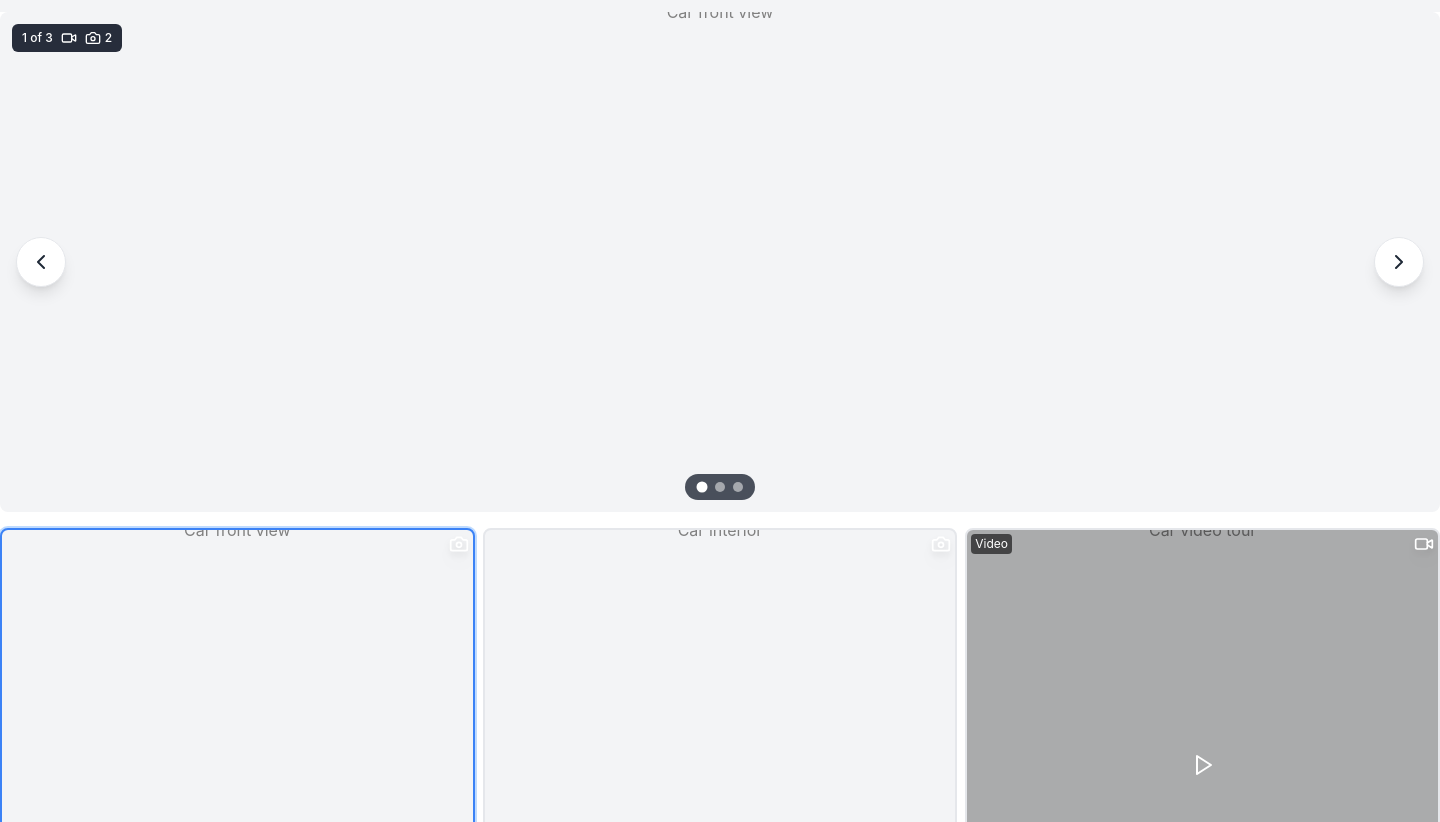
it: CarMediaGallery › navigates between images using navigation arrows
The width and height of the screenshot is (1440, 822).
Expected: the text "1 of 3" is shown, [22,30,53,46]
// Click next arrow
Click the button named "Next media": [1399, 262] box [1374,237,1424,287]
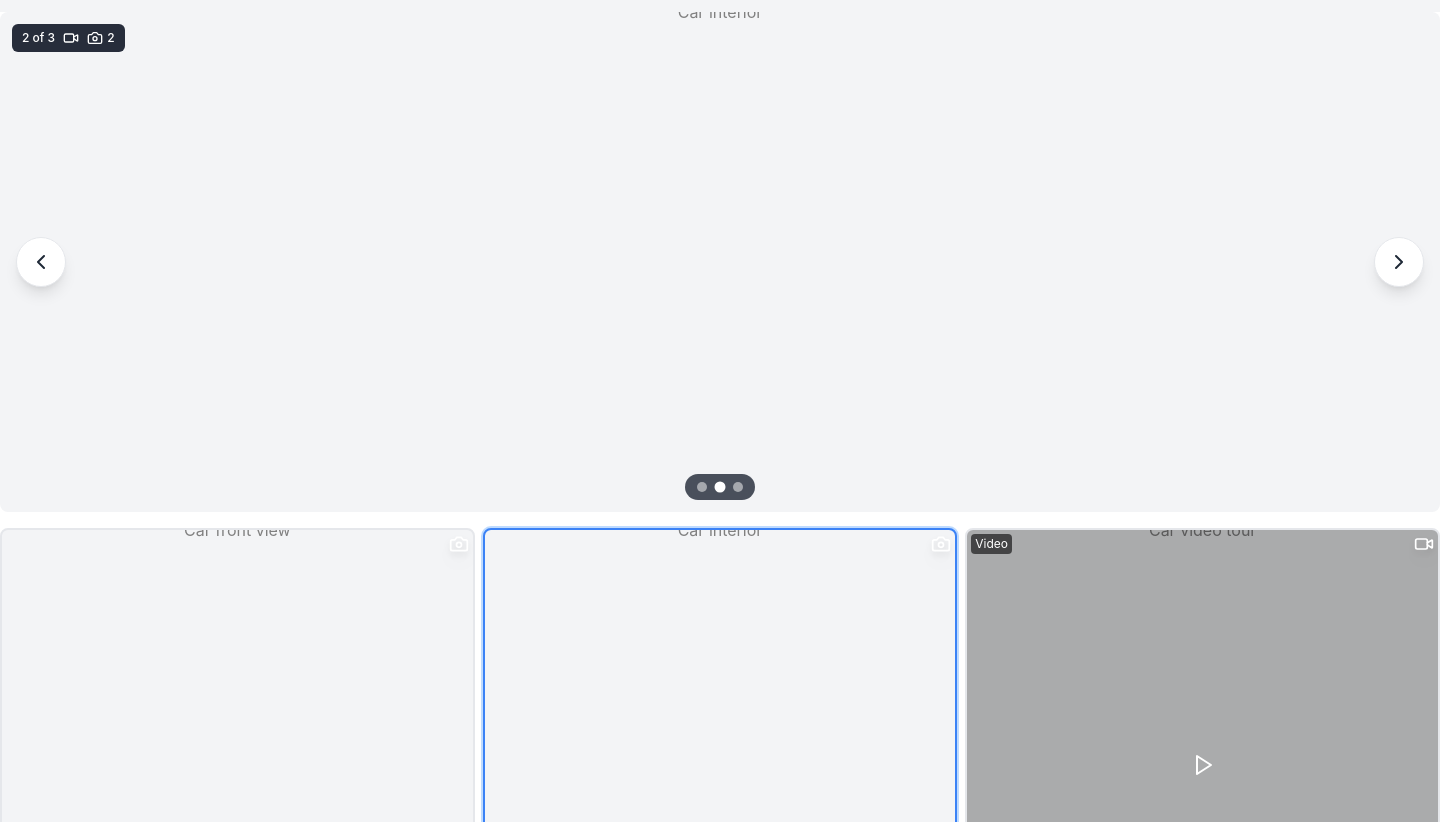
Now the text "2 of 3" is shown, box [22,30,55,46]
// Click previous arrow
Click the button named "Previous media": [41, 262] box [16,237,66,287]
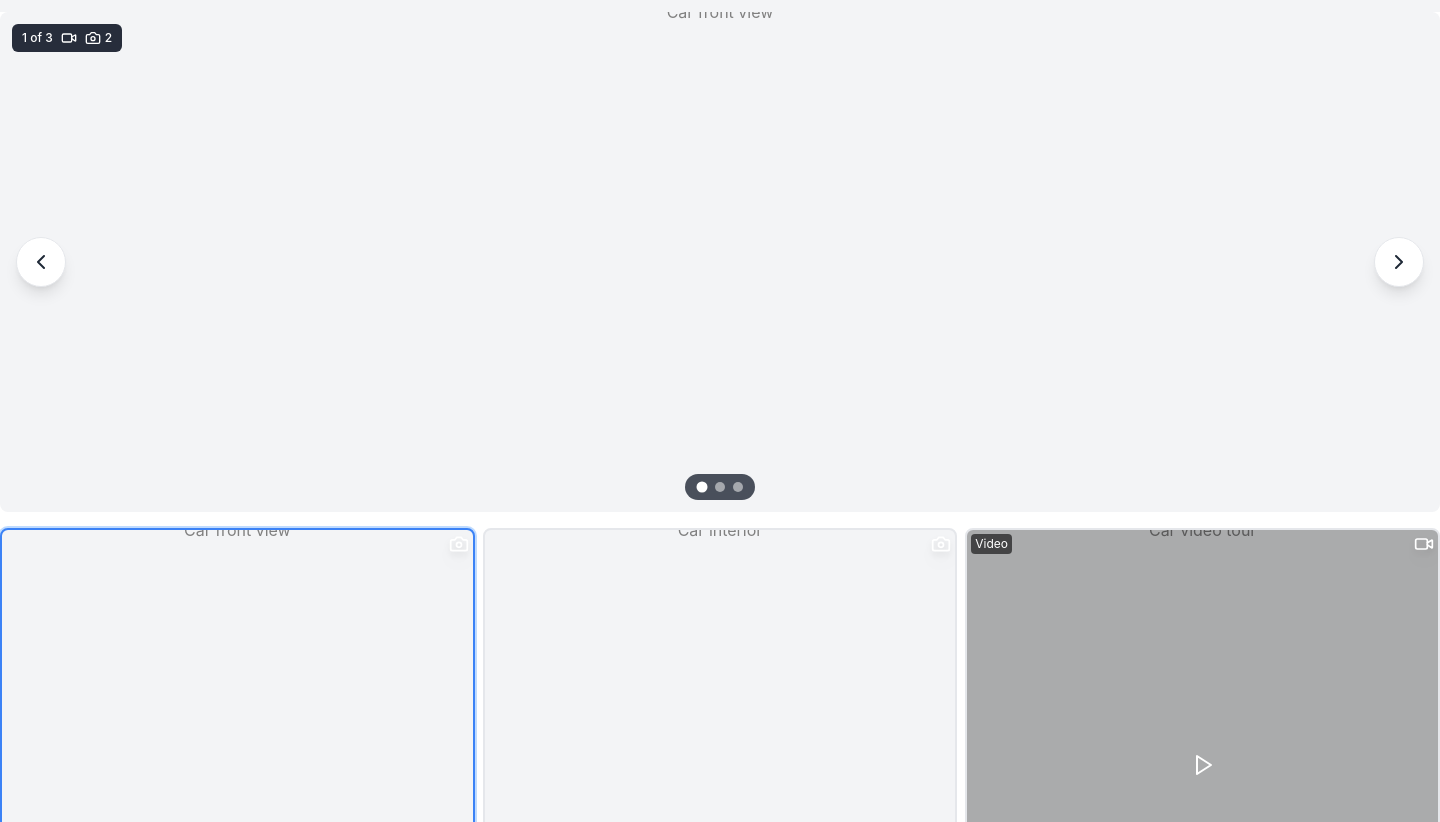
Now the text "1 of 3" is shown, box [22,30,53,46]
